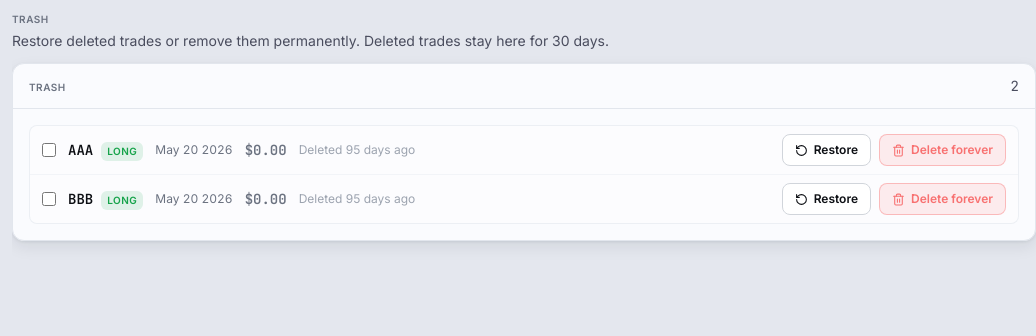
Test case: TrashSection — bulk actions › shows the bulk bar once a row is selected
This screenshot has width=1036, height=336.
Check: the text "AAA" is shown, box [68,140,93,160]
Check: the text "Combined Net P&L" is not shown
What coordinates should you click on to do the following:
click the checkbox named "Select AAA May 20 2026"
I would click on:
 (49, 150)
Its box is [42,143,56,157].
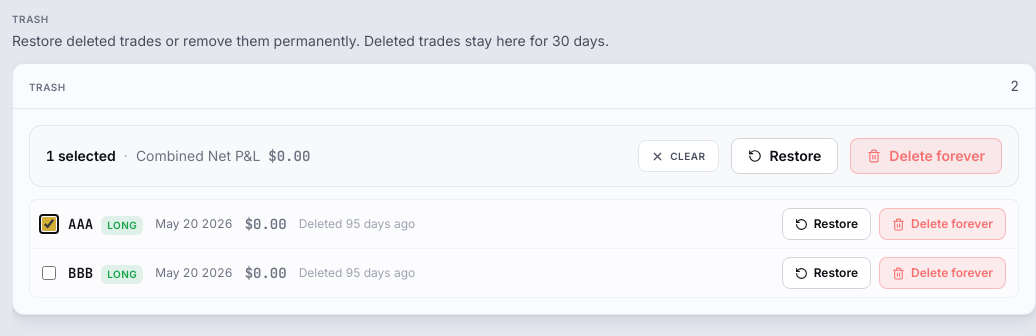
Check: the text "Combined Net P&L" is shown, box [136,146,260,166]
